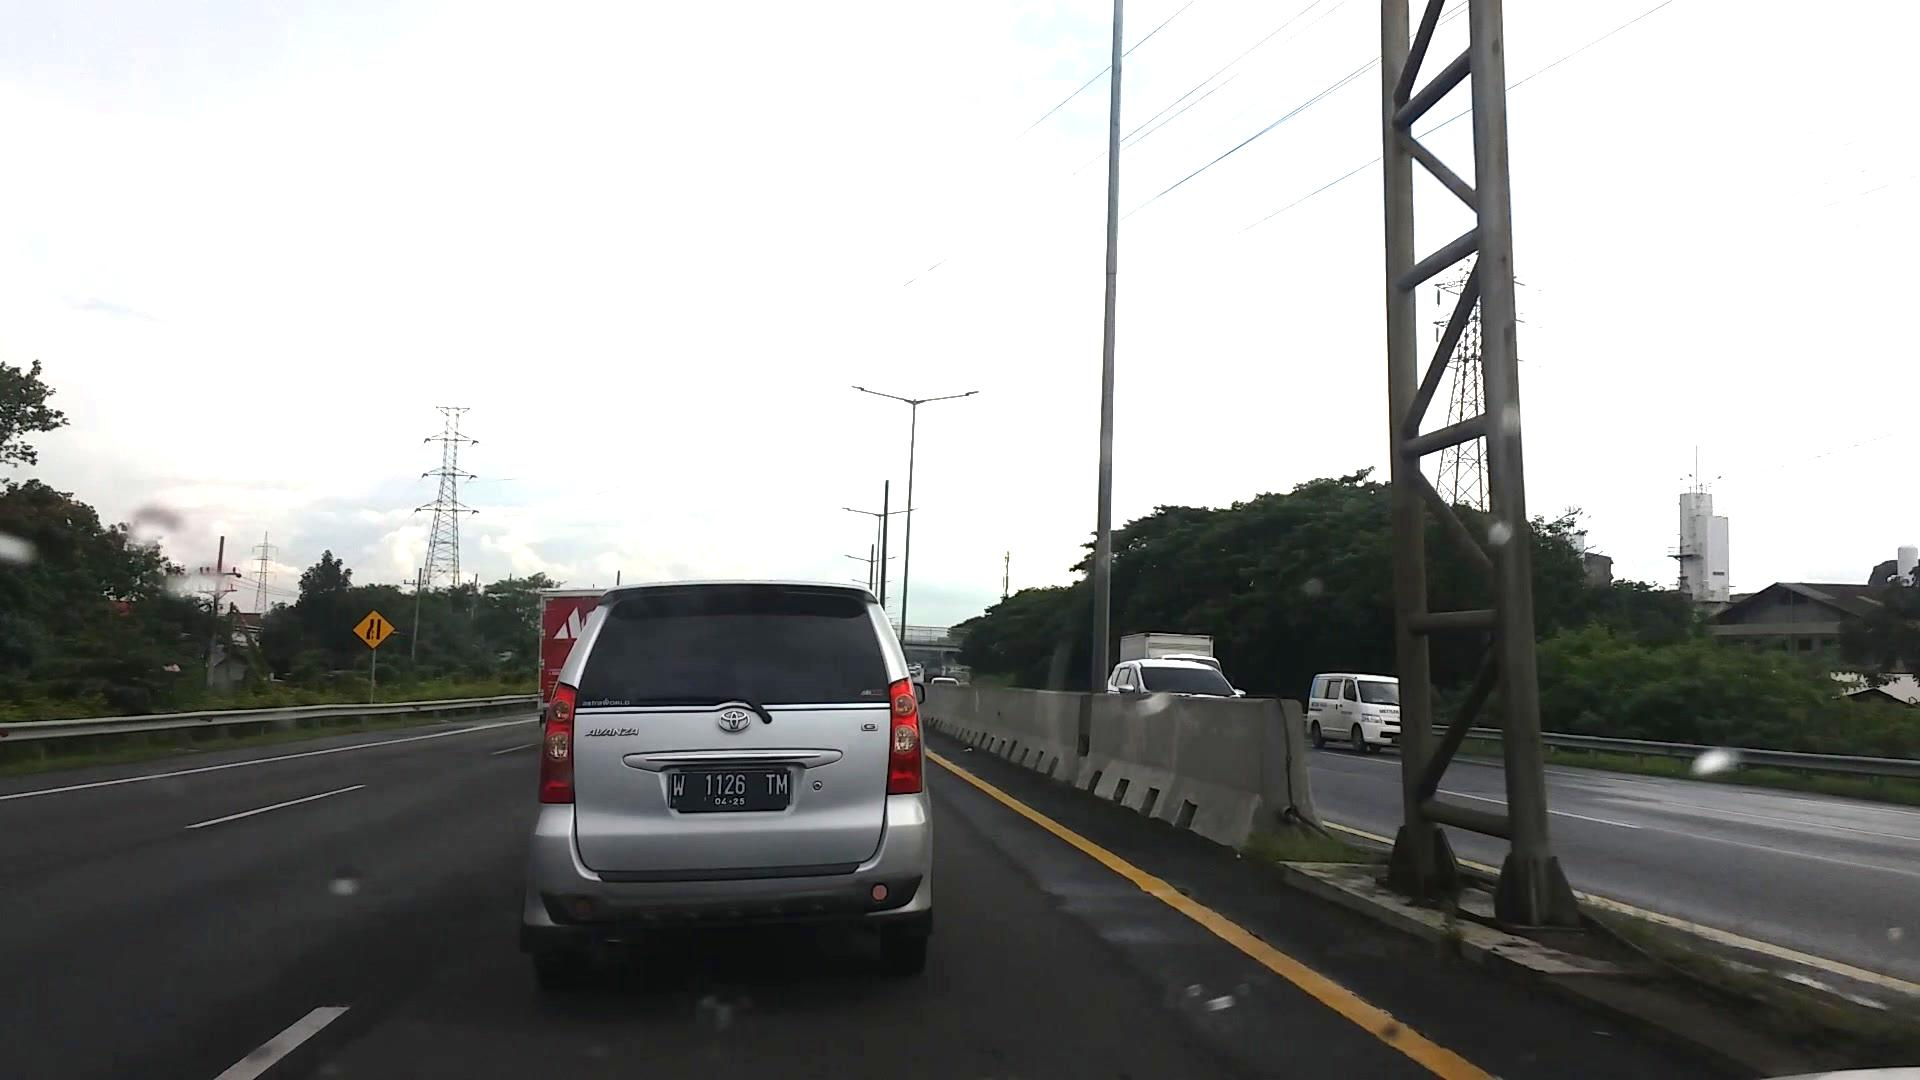plate_positive: (669, 769, 791, 812)
